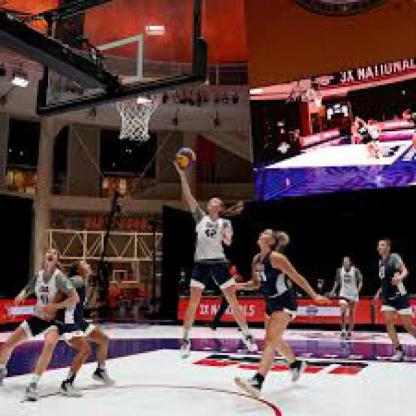basketball: (174, 147, 196, 168)
